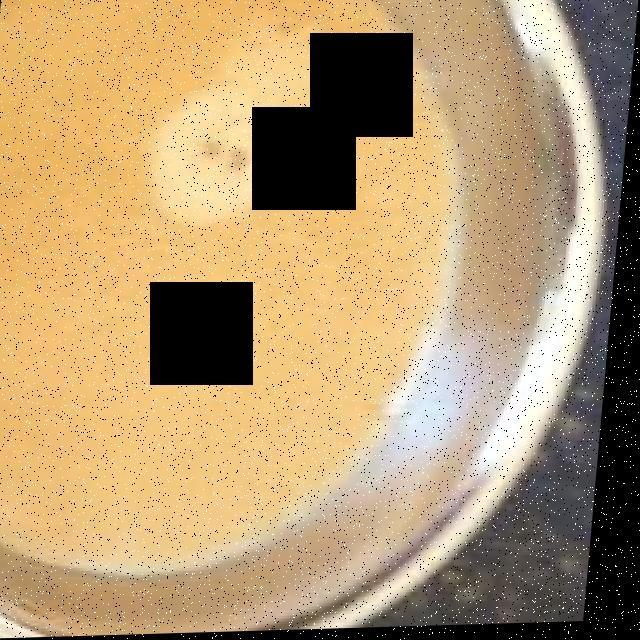coffee: (0, 0, 462, 569)
drink: (0, 0, 454, 566)
